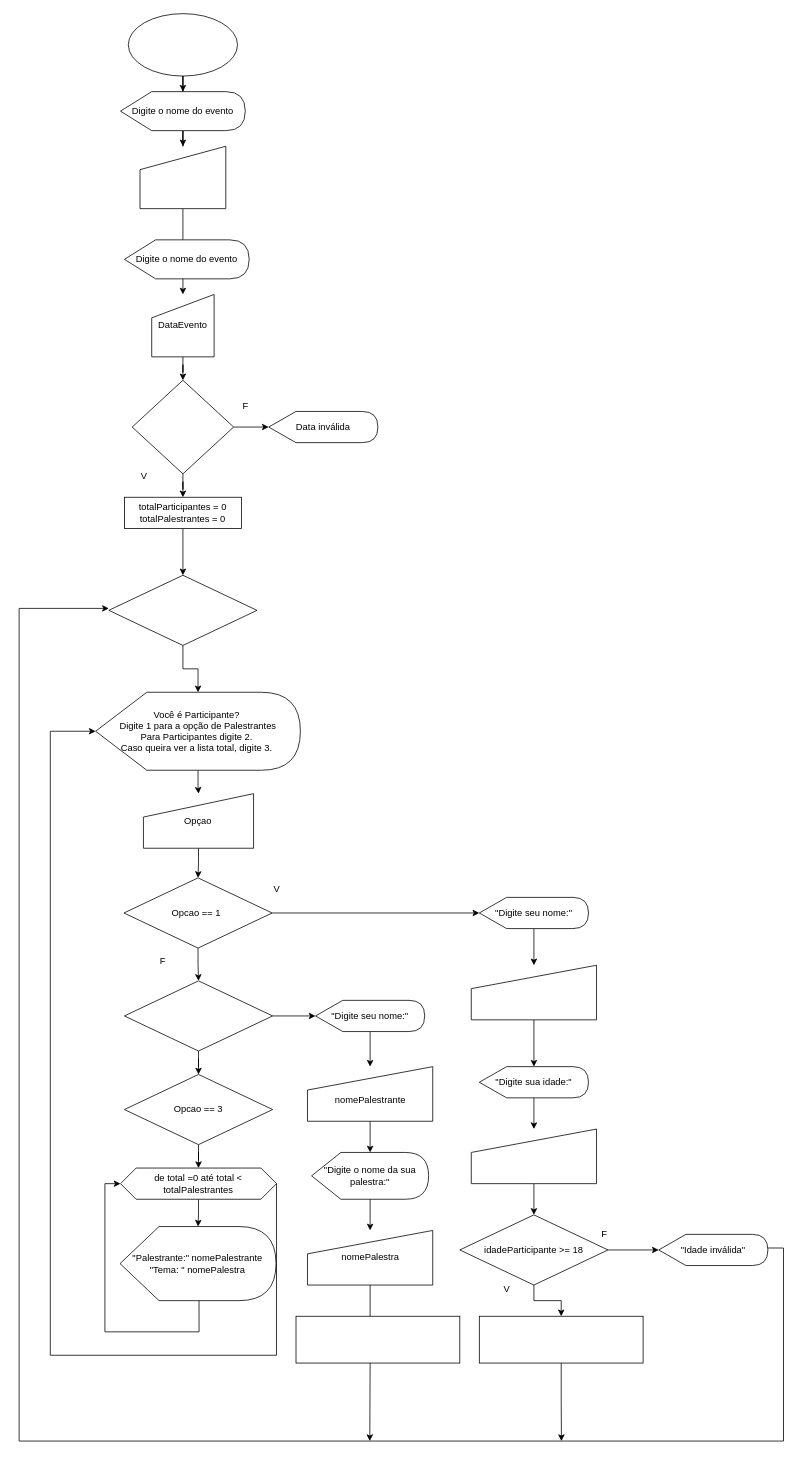
This 803x1461 diagram has some shape labels left out. Each missing label, with the centre of its shape:
DataEvento > Data Atual: [182,426]
Evento: [182,177]
idadeParticipante: [533,1156]
Início: [183,44]
nomeParticipante: [533,992]
Opcao == 2: [198,1015]
totalPalestrantes = totalPalestrantes + 1: [377,1339]
totalParticipantes <= 100: [182,609]
totalParticipantes = totalParticipantes + 1: [561,1339]
